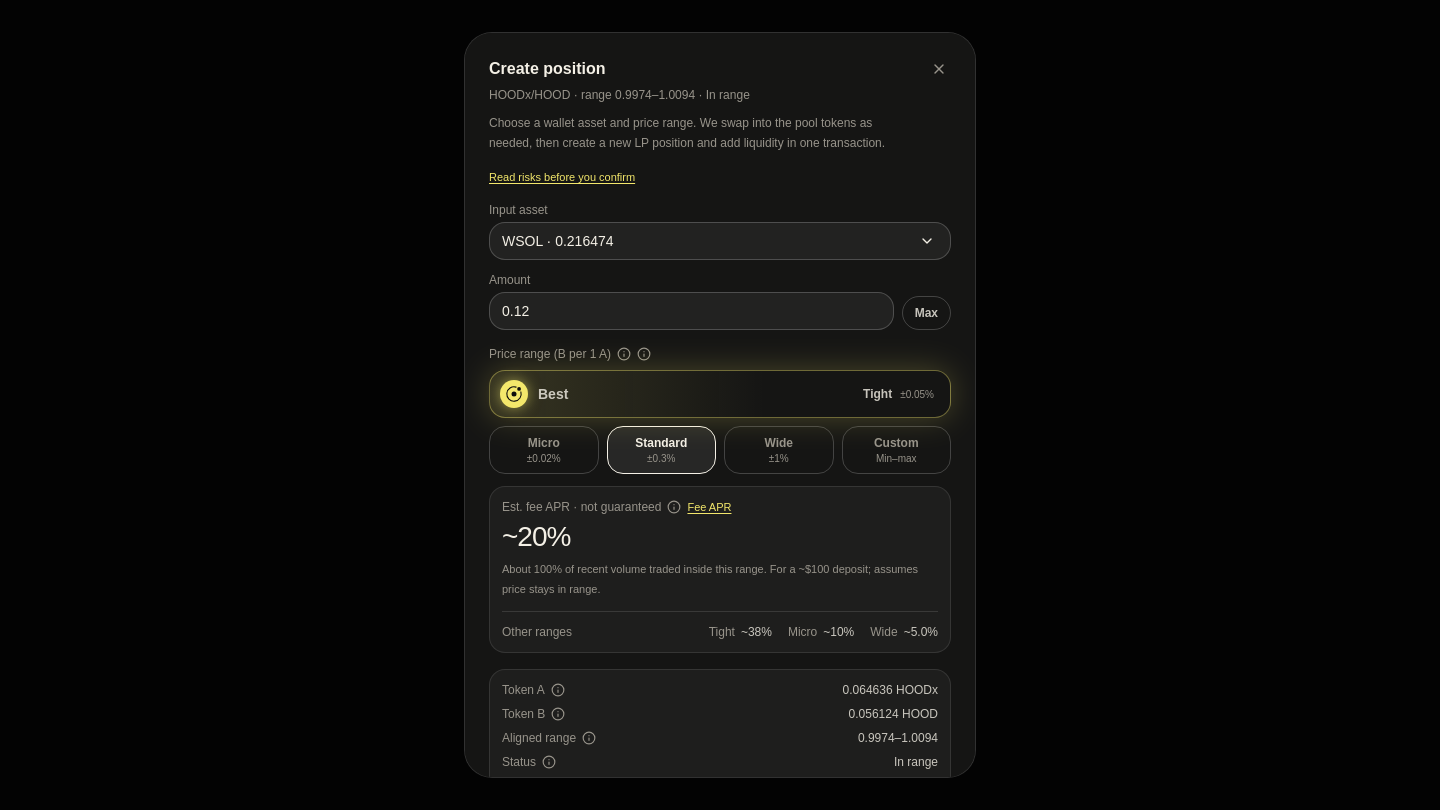
range presets and estimated APR › clicking Best requests the resolved candidate's own preset ('tight'), so what is signed is what was priced
Click the button with test id "preset-best" at (553, 394), box [489,370,951,418]
Wait 450 ms
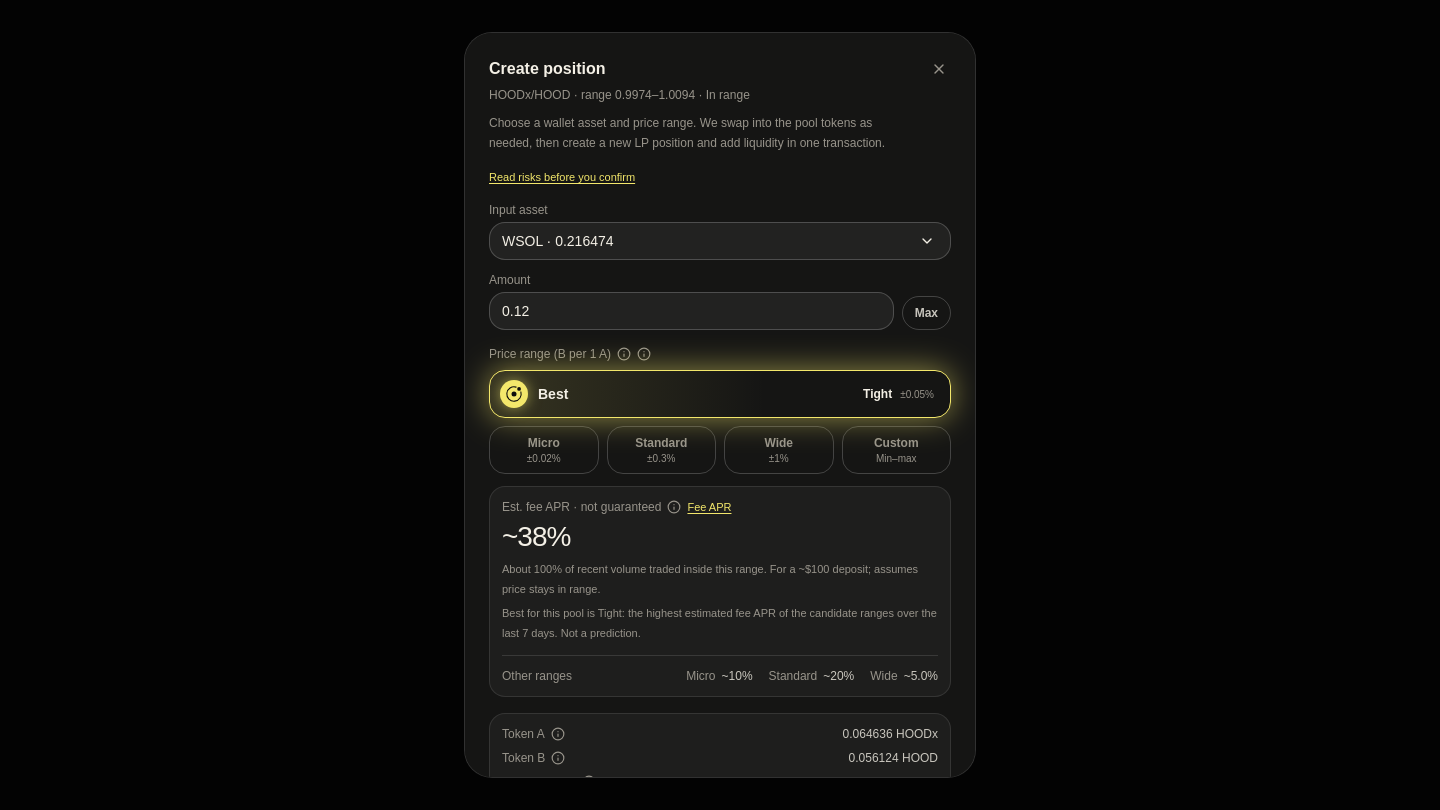
Check: the text with test id "range-apr-headline" reads "~38%", box [502,521,570,552]
Check: the text "Best for this pool is Tight" is shown, box [502,607,937,639]
